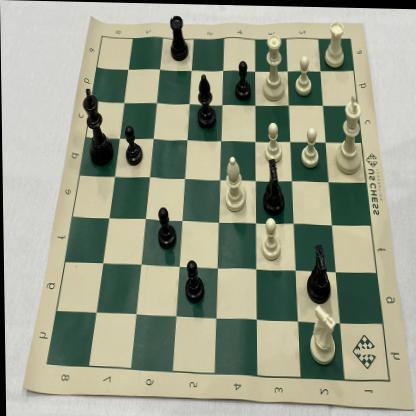black-bishop: (191, 68, 220, 132)
black-king: (80, 80, 116, 171)
black-knight: (302, 237, 334, 305), (258, 155, 288, 219)
black-pawn: (180, 252, 205, 306), (153, 203, 178, 254), (231, 54, 256, 104), (122, 121, 146, 169)
black-rook: (167, 12, 192, 66)
white-bishop: (222, 148, 249, 214)
white-king: (331, 90, 367, 176)
white-knight: (307, 300, 339, 364)
white-pawn: (257, 212, 286, 264), (297, 120, 322, 170), (290, 52, 314, 98), (261, 117, 283, 164)
white-queen: (258, 28, 286, 104)
white-rook: (320, 16, 348, 70)
